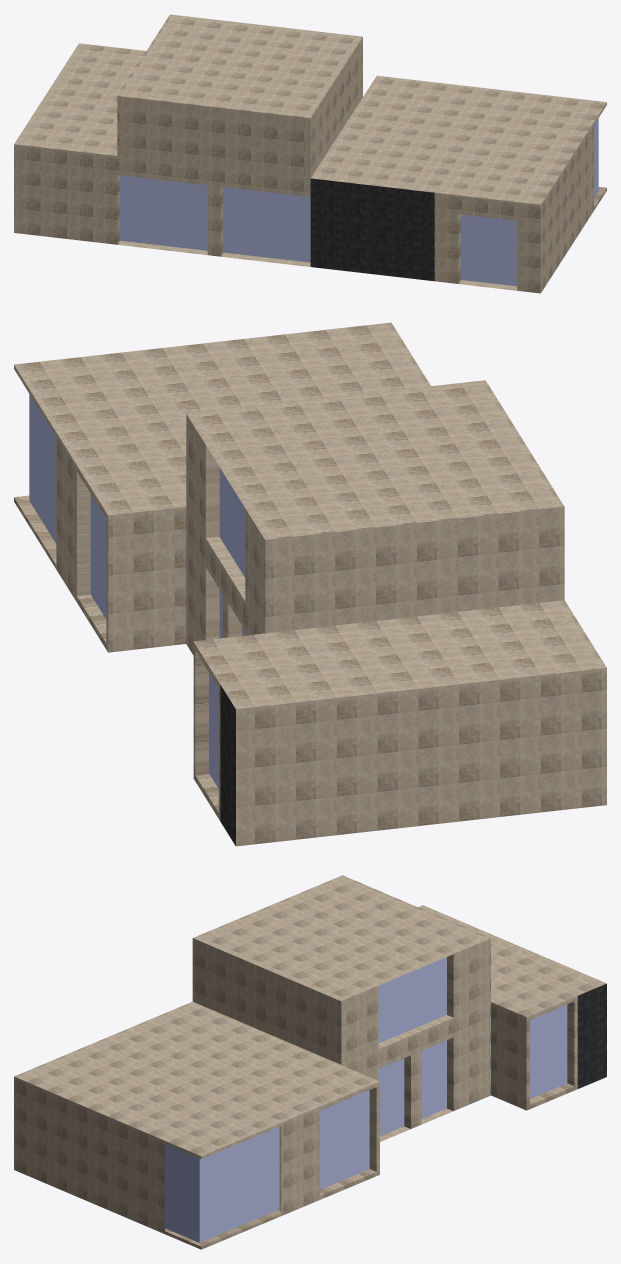
3 renders of one model, top to bottom at view 1: azimuth 30°, elevation 25°; view 2: azimuth 150°, elevation 25°; view 3: azimuth 270°, elevation 25°, orthographic. The views are drawn at different scales.
Parts seen in each view (by area): view 1: Cube.010; view 2: Cube.010; view 3: Cube.010.
Part boxes in pixels (x1=…): Cube.010: x1=14, y1=14, x2=606, y2=293; Cube.010: x1=14, y1=322, x2=606, y2=846; Cube.010: x1=14, y1=875, x2=606, y2=1249.
Size of the model in its own units: 33.07 by 9.64 by 32.99.
Materials: 3 (2 with a texture image).
